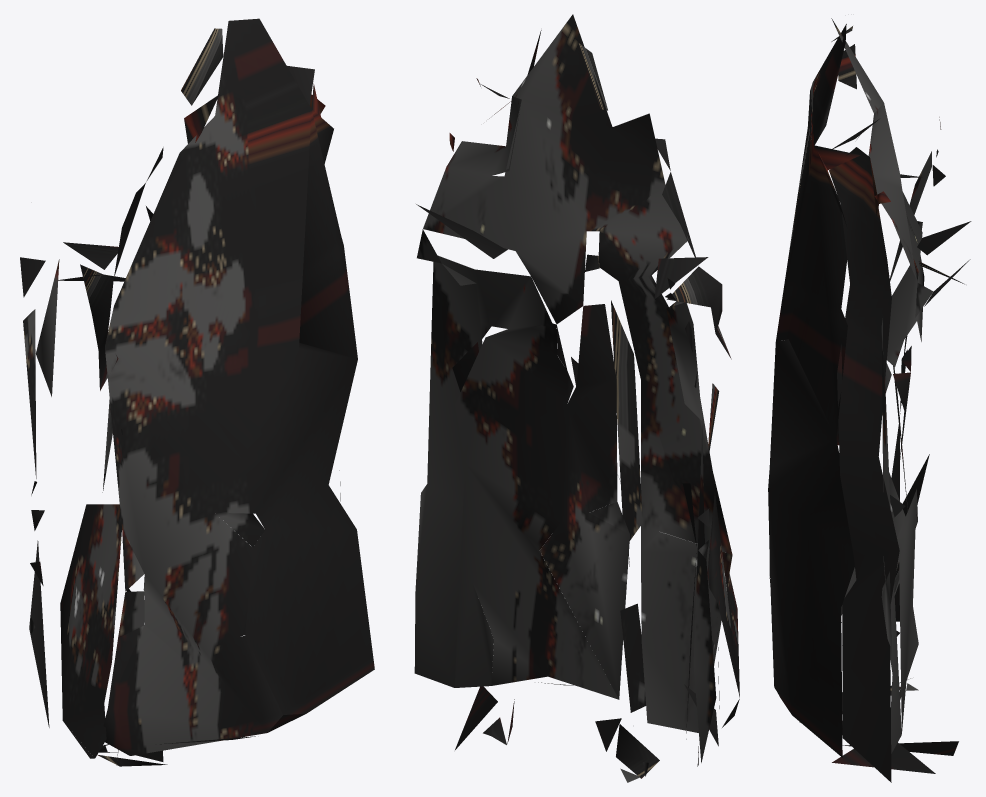
3 views of the same model, side by side, from view 1: azimuth 30°, elevation 25°; view 2: azimuth 150°, elevation 25°; view 3: azimuth 270°, elevation 25° (orthographic). The views are drawn at different scales.
Visible parts, largest first — view 1: body.002; view 2: body.002; view 3: body.002.
Boxes of the visible parts, left/top/right/bottom form: body.002: left=20, top=18, right=374, bottom=766; body.002: left=414, top=14, right=739, bottom=782; body.002: left=768, top=18, right=971, bottom=782.
Size of the model in its own units: 0.9435 by 2 by 0.5075.
1 material, 1 textured.
